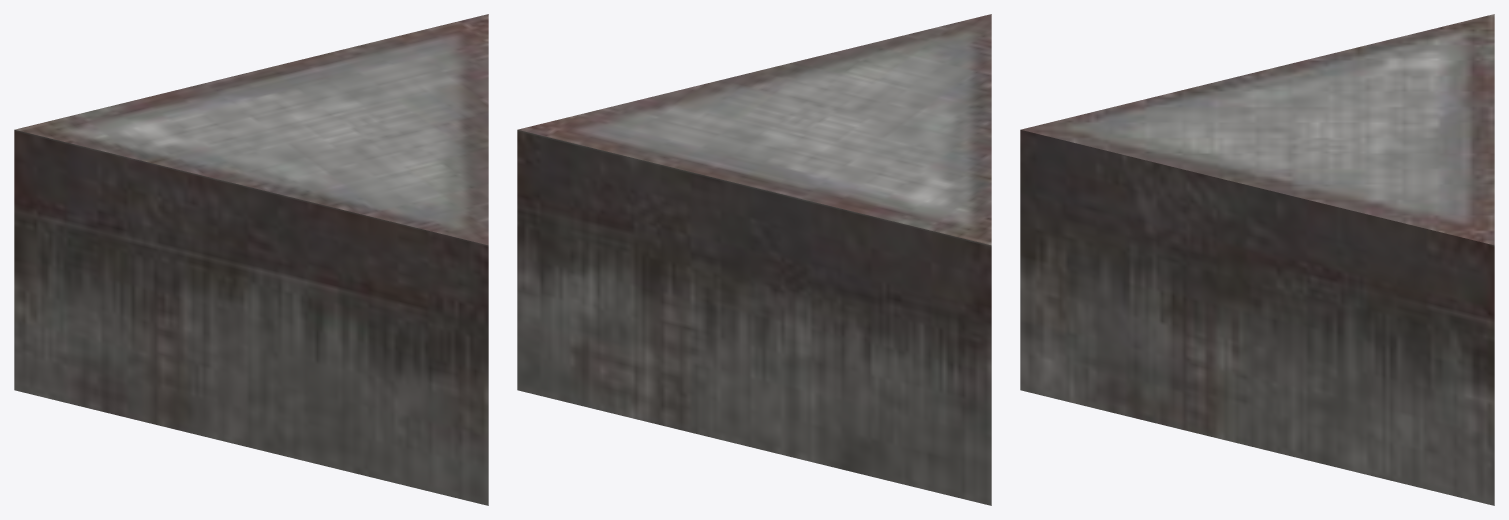
Rendered from armored_foundation_triangle_mid_textured.glb.
The picture shows the model from 3 angles, left to right: view 1: azimuth 30°, elevation 25°; view 2: azimuth 150°, elevation 25°; view 3: azimuth 270°, elevation 25°; orthographic projection.
Parts seen in each view (by area): view 1: Circle; view 2: Circle; view 3: Circle.
Boxes of the visible parts, <box> form: Circle: <box>14,14,488,505</box>; Circle: <box>517,14,991,505</box>; Circle: <box>1020,14,1494,505</box>.
Size of the model in its own units: 2 by 1.05 by 1.73.
Materials: 1 (1 with a texture image).
